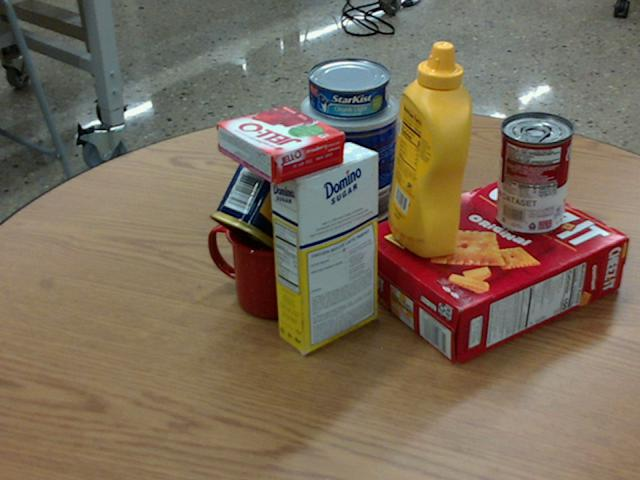cracker_box: (355, 173, 626, 364)
gelatin_box: (216, 104, 345, 184)
large_marker: (430, 122, 451, 225)
master_chef_can: (303, 85, 400, 241)
mug: (207, 202, 319, 317)
mustard_bottle: (388, 41, 471, 257)
potted_meat_can: (210, 137, 329, 262)
sugar_box: (268, 142, 377, 352)
tomato_soup_can: (496, 111, 573, 233)
tuna_fish_can: (308, 57, 390, 118)
